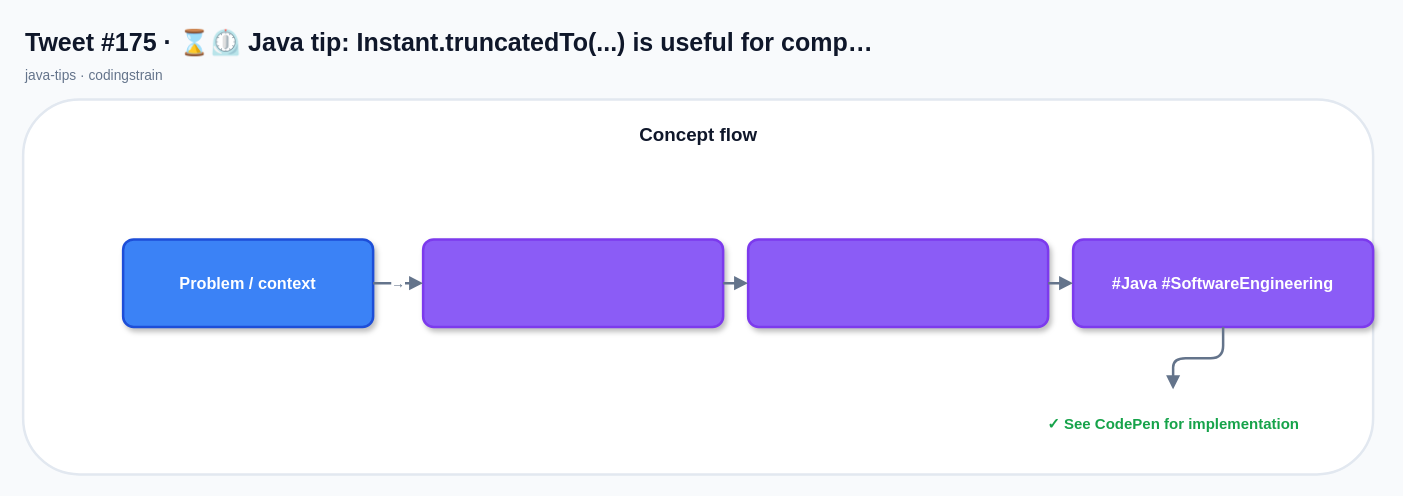
Image size: 1403x496. Some labels were removed from this diagram. Here are the shapes that lost their labels. From the top down, the centre of each, then its label:
point (573, 284): ⌛️⏲️ Java tip: Instant.truncatedTo(...) is useful for comparing times
point (898, 284): It avoids equality checks failing due to overly precise values.
